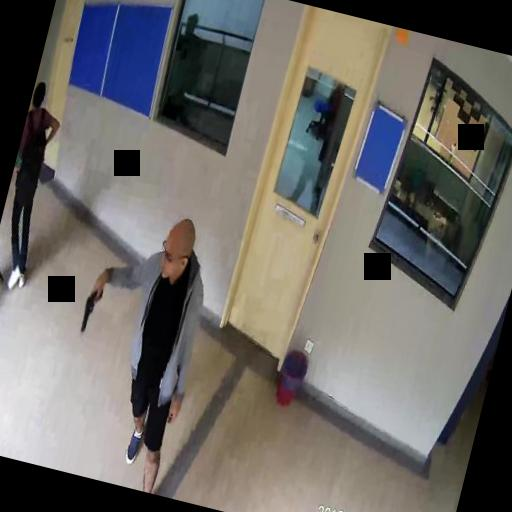Handgun: (78, 282, 104, 334)
